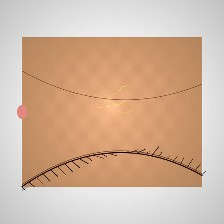corneal_ulcer: (88, 86, 139, 126)
